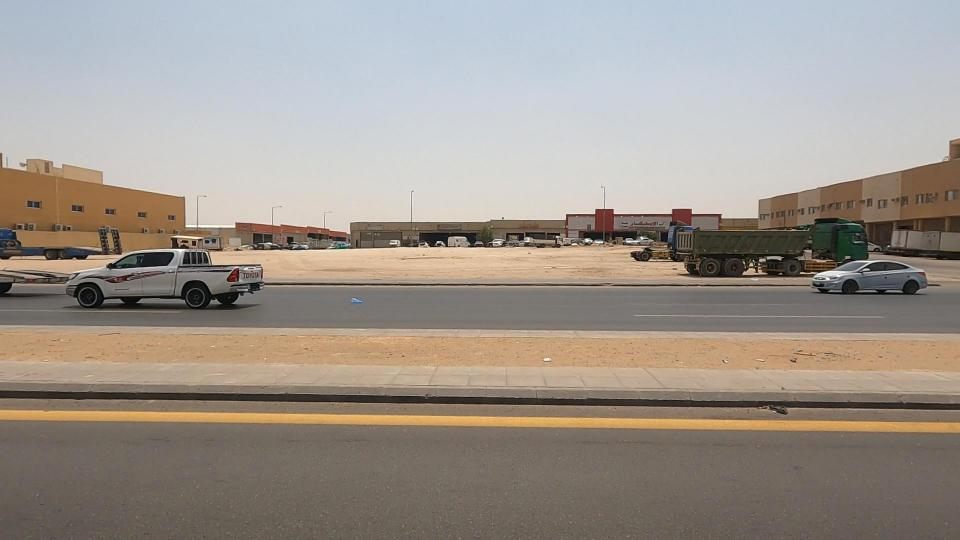CLUTTER_SIDEWALK: (332, 298, 909, 401), (0, 300, 475, 405)
GARBAGE: (307, 257, 390, 335)
